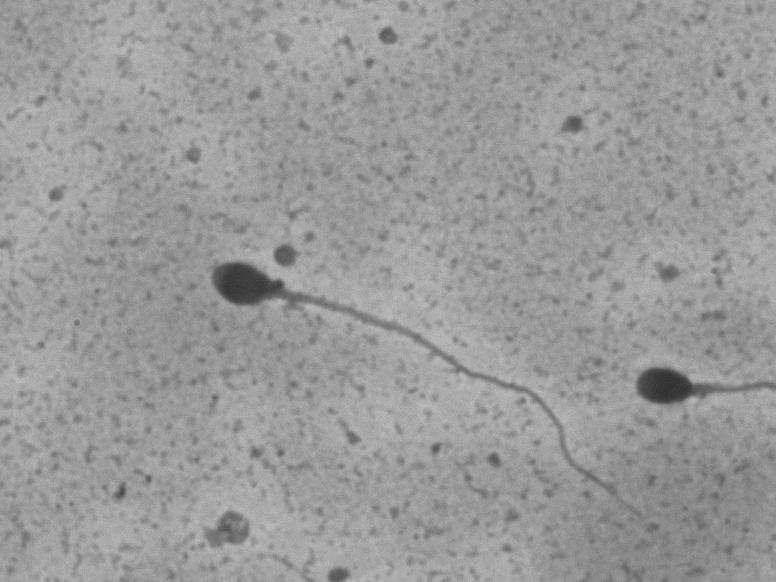Abnormal: (185, 242, 652, 524)
